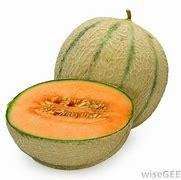Melon Ripe: (54, 8, 168, 131), (7, 79, 133, 168)
